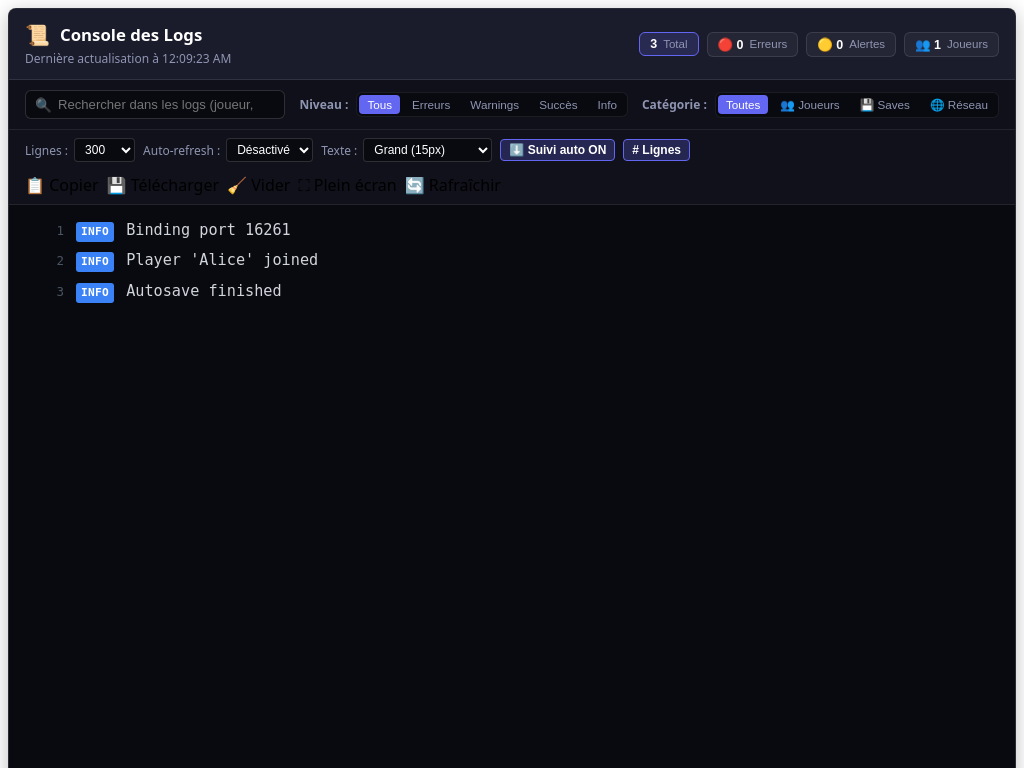
Test case: GameServerLogsPanel › filtre les logs via le champ de recherche
Type "Alice" into the field with class "gsl-search-input".
click(155, 104); type("Alice")  # box [25,90,285,119]
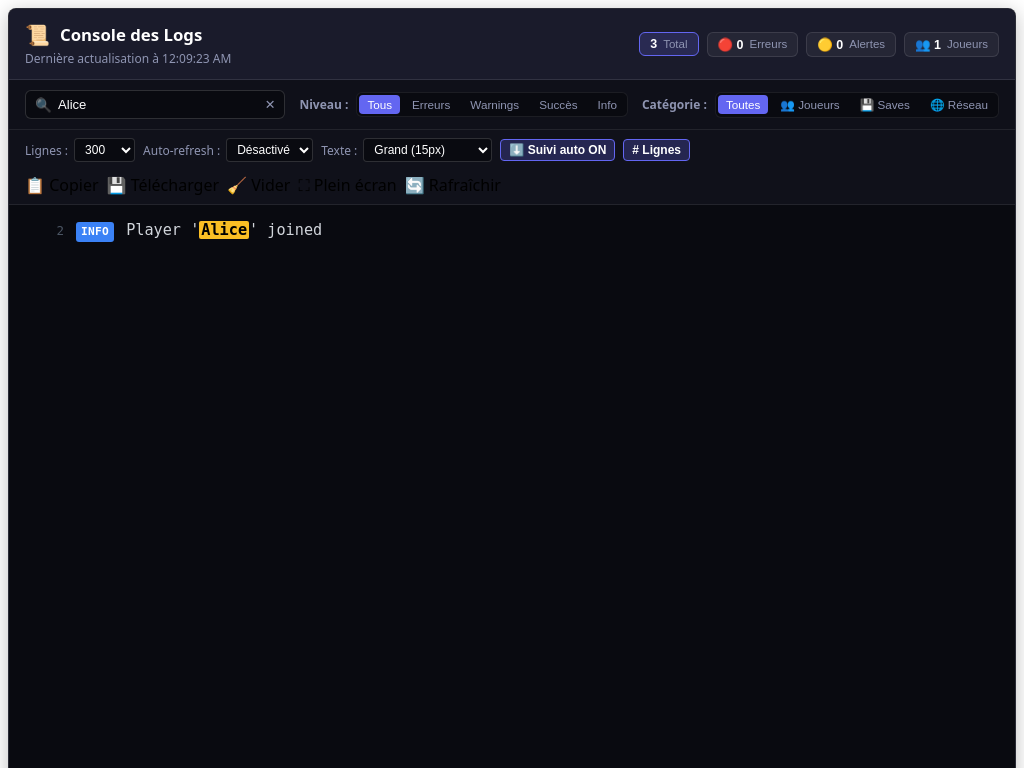
Expected: the text "Alice" is shown, [199,221,249,239]
Expected: the text "Binding port" is gone
Expected: the text "Autosave finished" is gone
